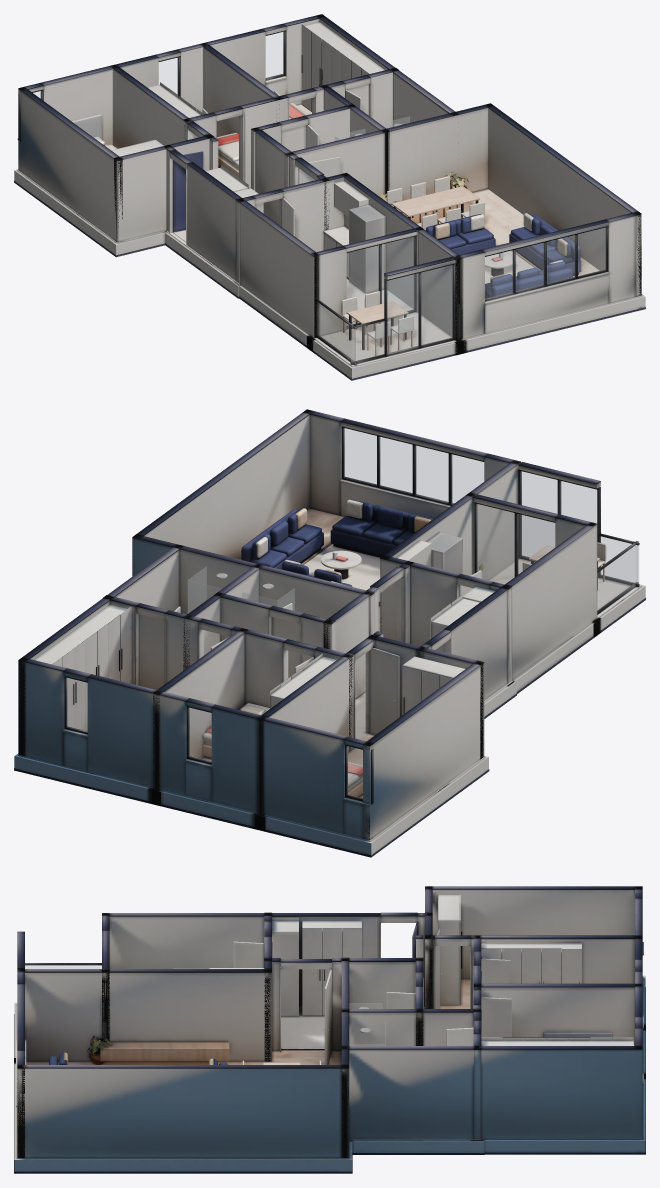
3 renders of one model, top to bottom at view 1: azimuth 30°, elevation 25°; view 2: azimuth 150°, elevation 25°; view 3: azimuth 270°, elevation 25°, orthographic. The views are drawn at different scales.
Visible parts, largest first — view 1: plan, glass3_m, glass5_m, glass4_m, railg4_m, railg2_m, glass2_m, glass1_m; view 2: plan, glass3_m, glass4_m, glass5_m, railg4_m, railg2_m, glass1_m, glass2_m, glass0_m, sg.002_m; view 3: plan.
Boxes of the visible parts, x1,y1,x2,y2 form: plan: (14, 14, 645, 380); glass3_m: (485, 228, 606, 299); glass5_m: (387, 265, 452, 353); glass4_m: (347, 237, 414, 325); railg4_m: (317, 302, 355, 362); railg2_m: (351, 321, 384, 362); glass2_m: (266, 32, 283, 78); glass1_m: (159, 58, 177, 94); plan: (14, 409, 645, 857); glass3_m: (344, 428, 483, 503); glass4_m: (477, 504, 554, 583); glass5_m: (521, 471, 596, 557); railg4_m: (597, 545, 637, 610); railg2_m: (600, 536, 638, 583); glass1_m: (189, 708, 211, 761); glass2_m: (66, 678, 87, 731); glass0_m: (347, 746, 362, 798); sg.002_m: (188, 567, 206, 612); plan: (14, 886, 645, 1173).
Size of the model in its own units: 9.97 by 2.62 by 14.43.
Materials: 2 (1 with a texture image).
